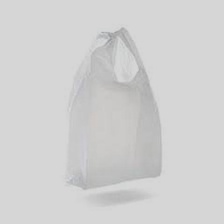plastic_bag: (58, 19, 168, 192)
